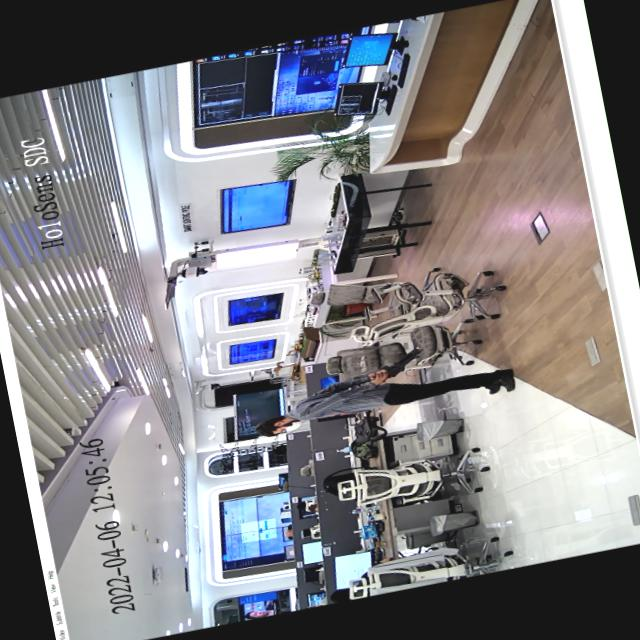long weapon: (356, 340, 439, 386)
